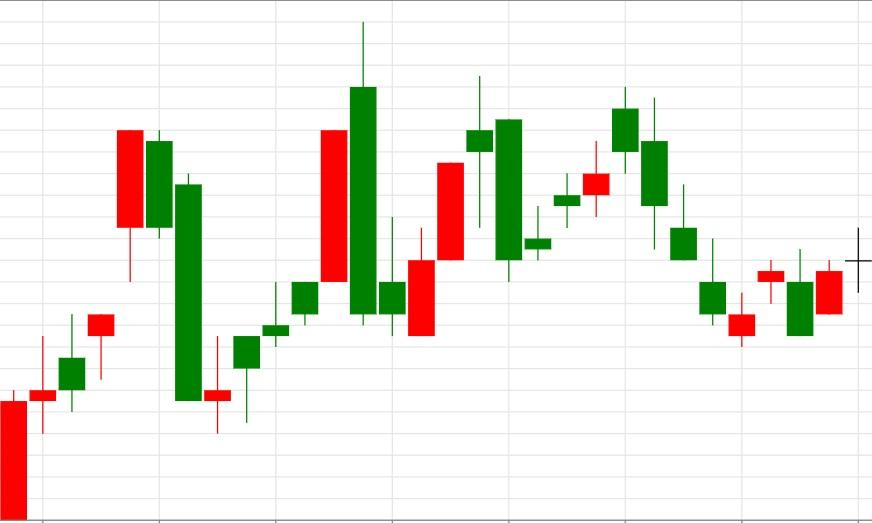bearish_engulfing_fall: (203, 21, 378, 433)
